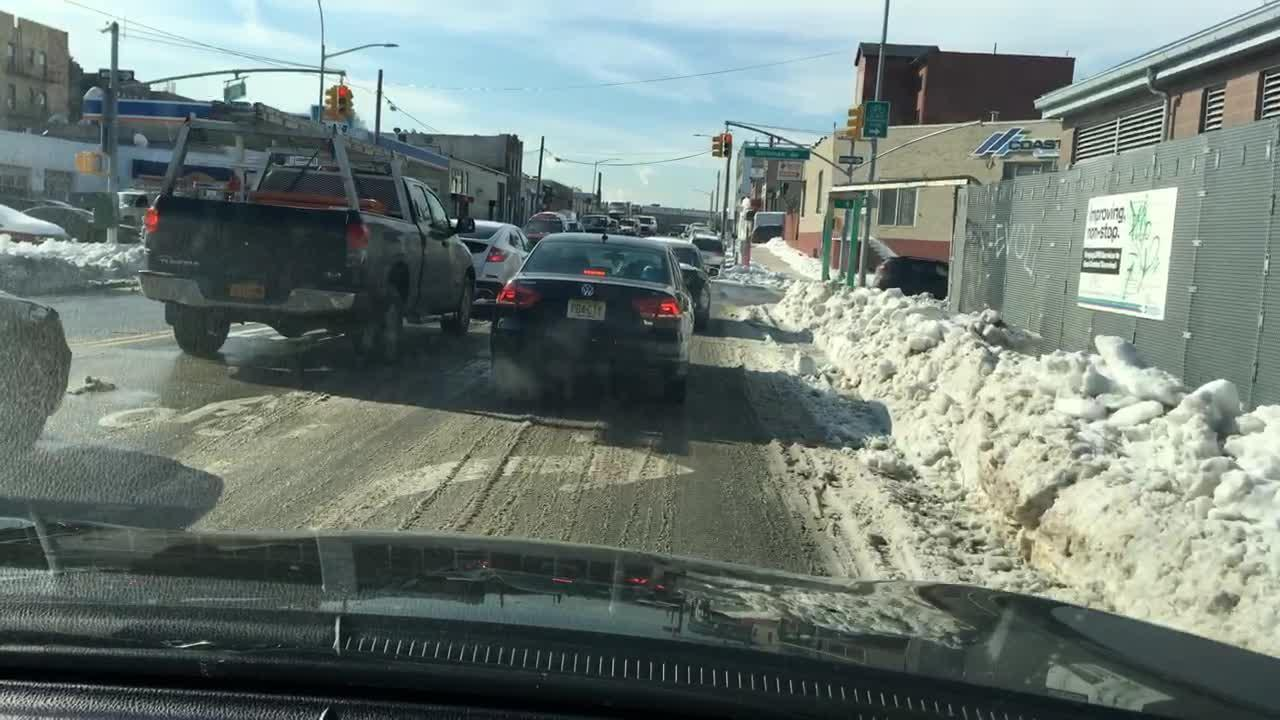Volkswagen: (576, 281, 600, 300)
